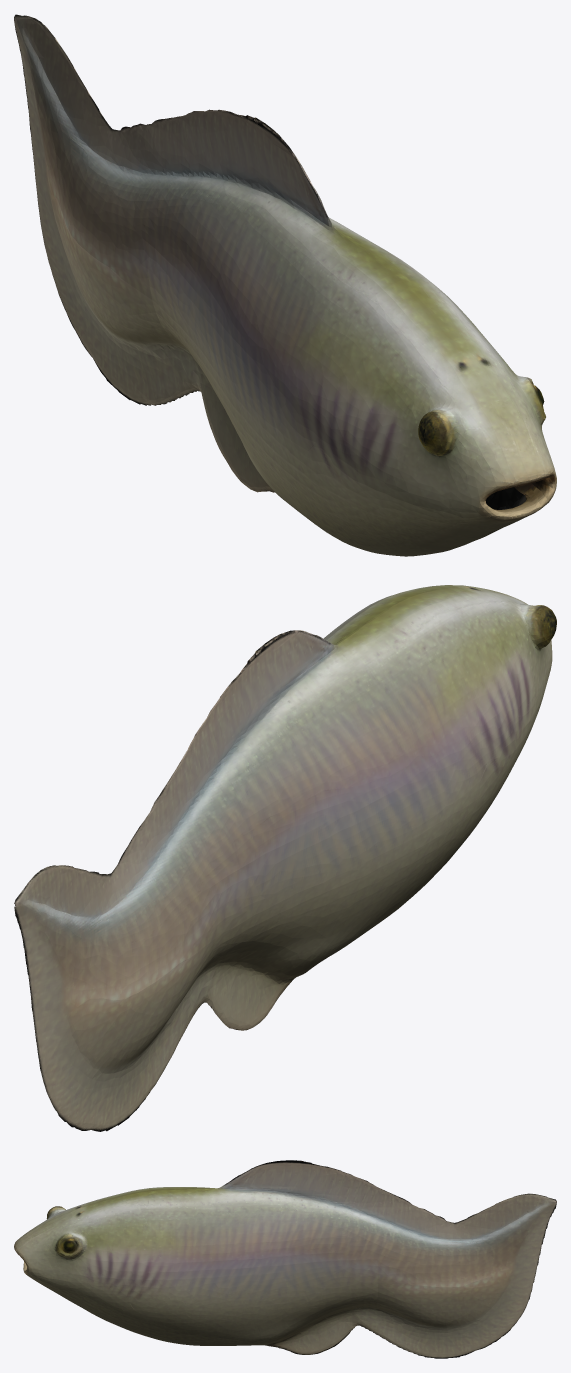
3 renders of one model, top to bottom at view 1: azimuth 30°, elevation 25°; view 2: azimuth 150°, elevation 25°; view 3: azimuth 270°, elevation 25°, orthographic. The views are drawn at different scales.
Parts seen in each view (by area): view 1: world; view 2: world; view 3: world.
Part boxes in pixels (box(x1,y1,x2,y2)): world: box(14, 14, 556, 556); world: box(14, 585, 556, 1131); world: box(14, 1160, 556, 1358).
Bounding box in the file's own units: 0.00588 × 0.0121 × 0.03.
1 material, 1 textured.
